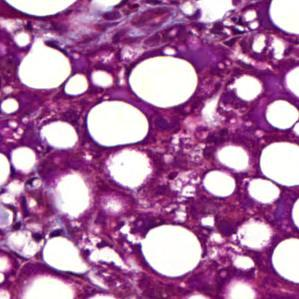steatosis: (128, 53, 199, 107), (141, 223, 203, 276), (84, 98, 152, 146), (18, 41, 72, 92), (200, 167, 239, 200)
